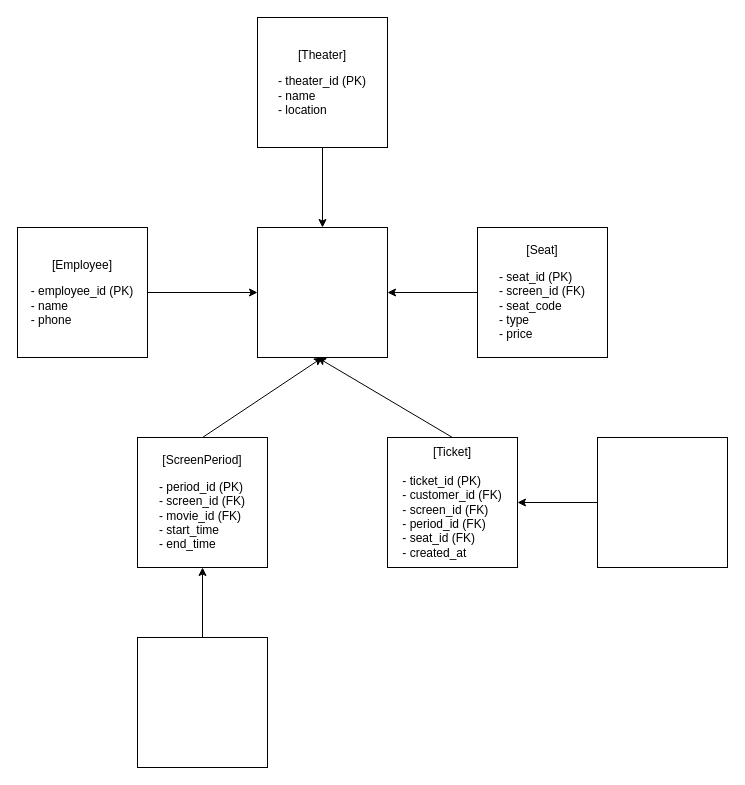
Some shapes in this 745 by 785 pixel diagram are drawn without their labels. Each missing label, with the centre of its shape:
"[Customer] - customer_id (PK) - phone_number" goes at point (662, 502).
"[Movie] - movie_id(PK) - title - duration_min - start_date - end_date" goes at point (202, 702).
"[Screen] - screen_id (PK) - theater_id (FK) - name - employee_id (FK)" goes at point (322, 292).
